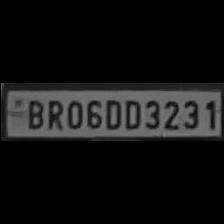0: (63, 97, 83, 130)
1: (200, 97, 218, 130)
2: (161, 97, 179, 130)
3: (179, 97, 199, 130), (142, 97, 160, 130)
6: (83, 97, 101, 130)
B: (22, 97, 44, 130)
D: (102, 96, 120, 130), (122, 96, 140, 130)
R: (42, 97, 62, 131)
